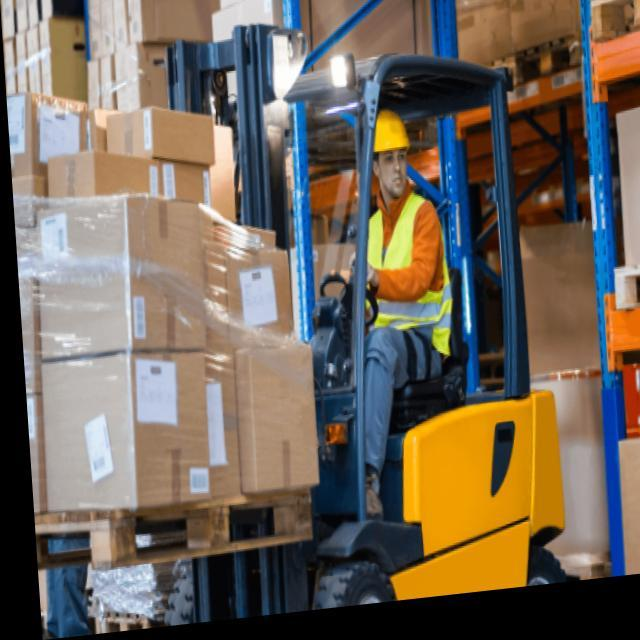hard_hat: (365, 101, 415, 205)
shoes: (323, 450, 390, 525)
vest: (349, 186, 461, 372)
